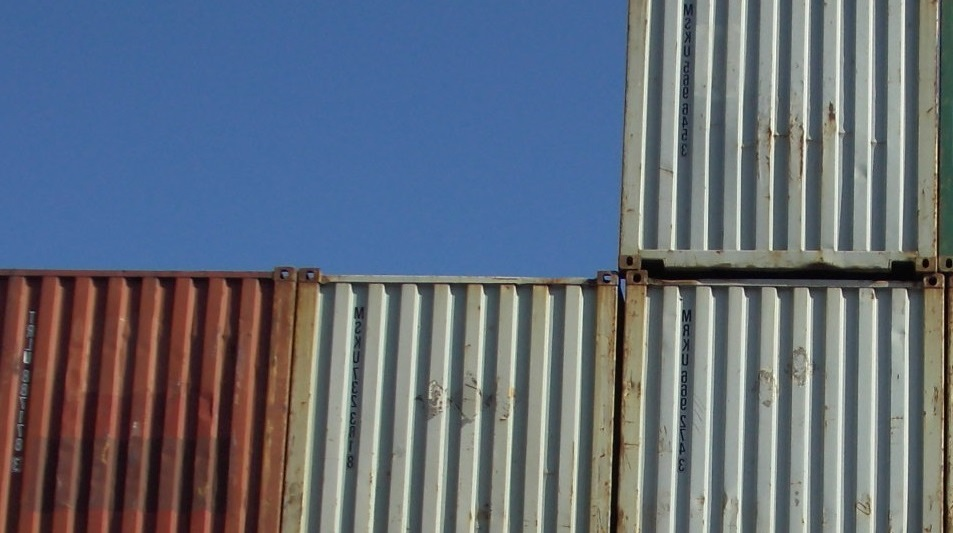container_no_door: (619, 266, 953, 533), (288, 266, 621, 533), (616, 4, 951, 259), (1, 266, 290, 533)
